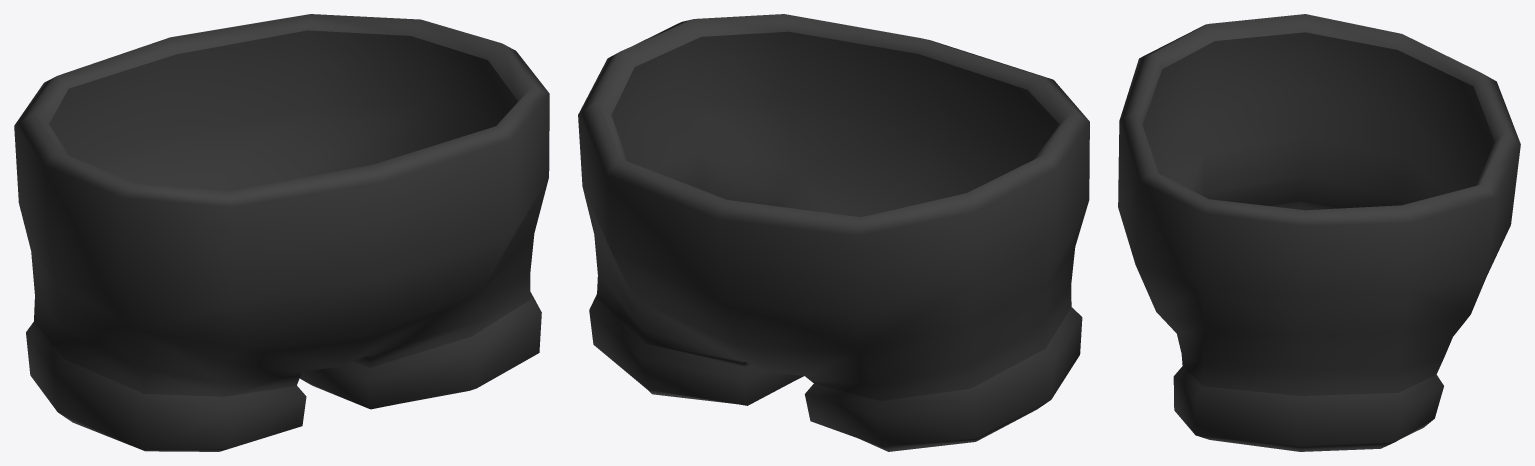
Rendered from Bottom_35.fbx.
The picture shows the model from 3 angles, left to right: view 1: azimuth 30°, elevation 25°; view 2: azimuth 150°, elevation 25°; view 3: azimuth 270°, elevation 25°; orthographic projection. The views are drawn at different scales.
Parts seen in each view (by area): view 1: Bottom_35; view 2: Bottom_35; view 3: Bottom_35.
Part boxes in pixels (x1,y1,x2,y2): Bottom_35: (14,14,549,451); Bottom_35: (578,14,1089,451); Bottom_35: (1118,14,1520,451).
Size of the model in its own units: 38.42 by 22.89 by 31.34.
